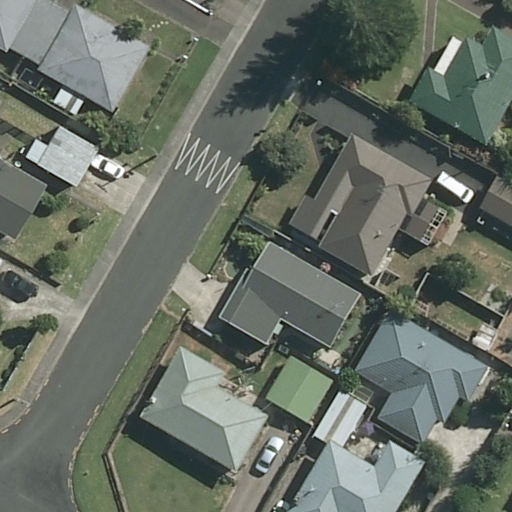DT: (11, 397, 33, 411), (145, 144, 163, 161)
